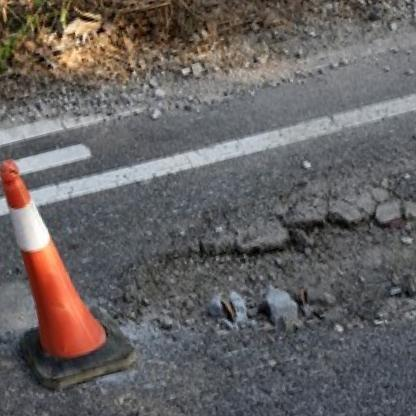pothole: (110, 155, 416, 375)
